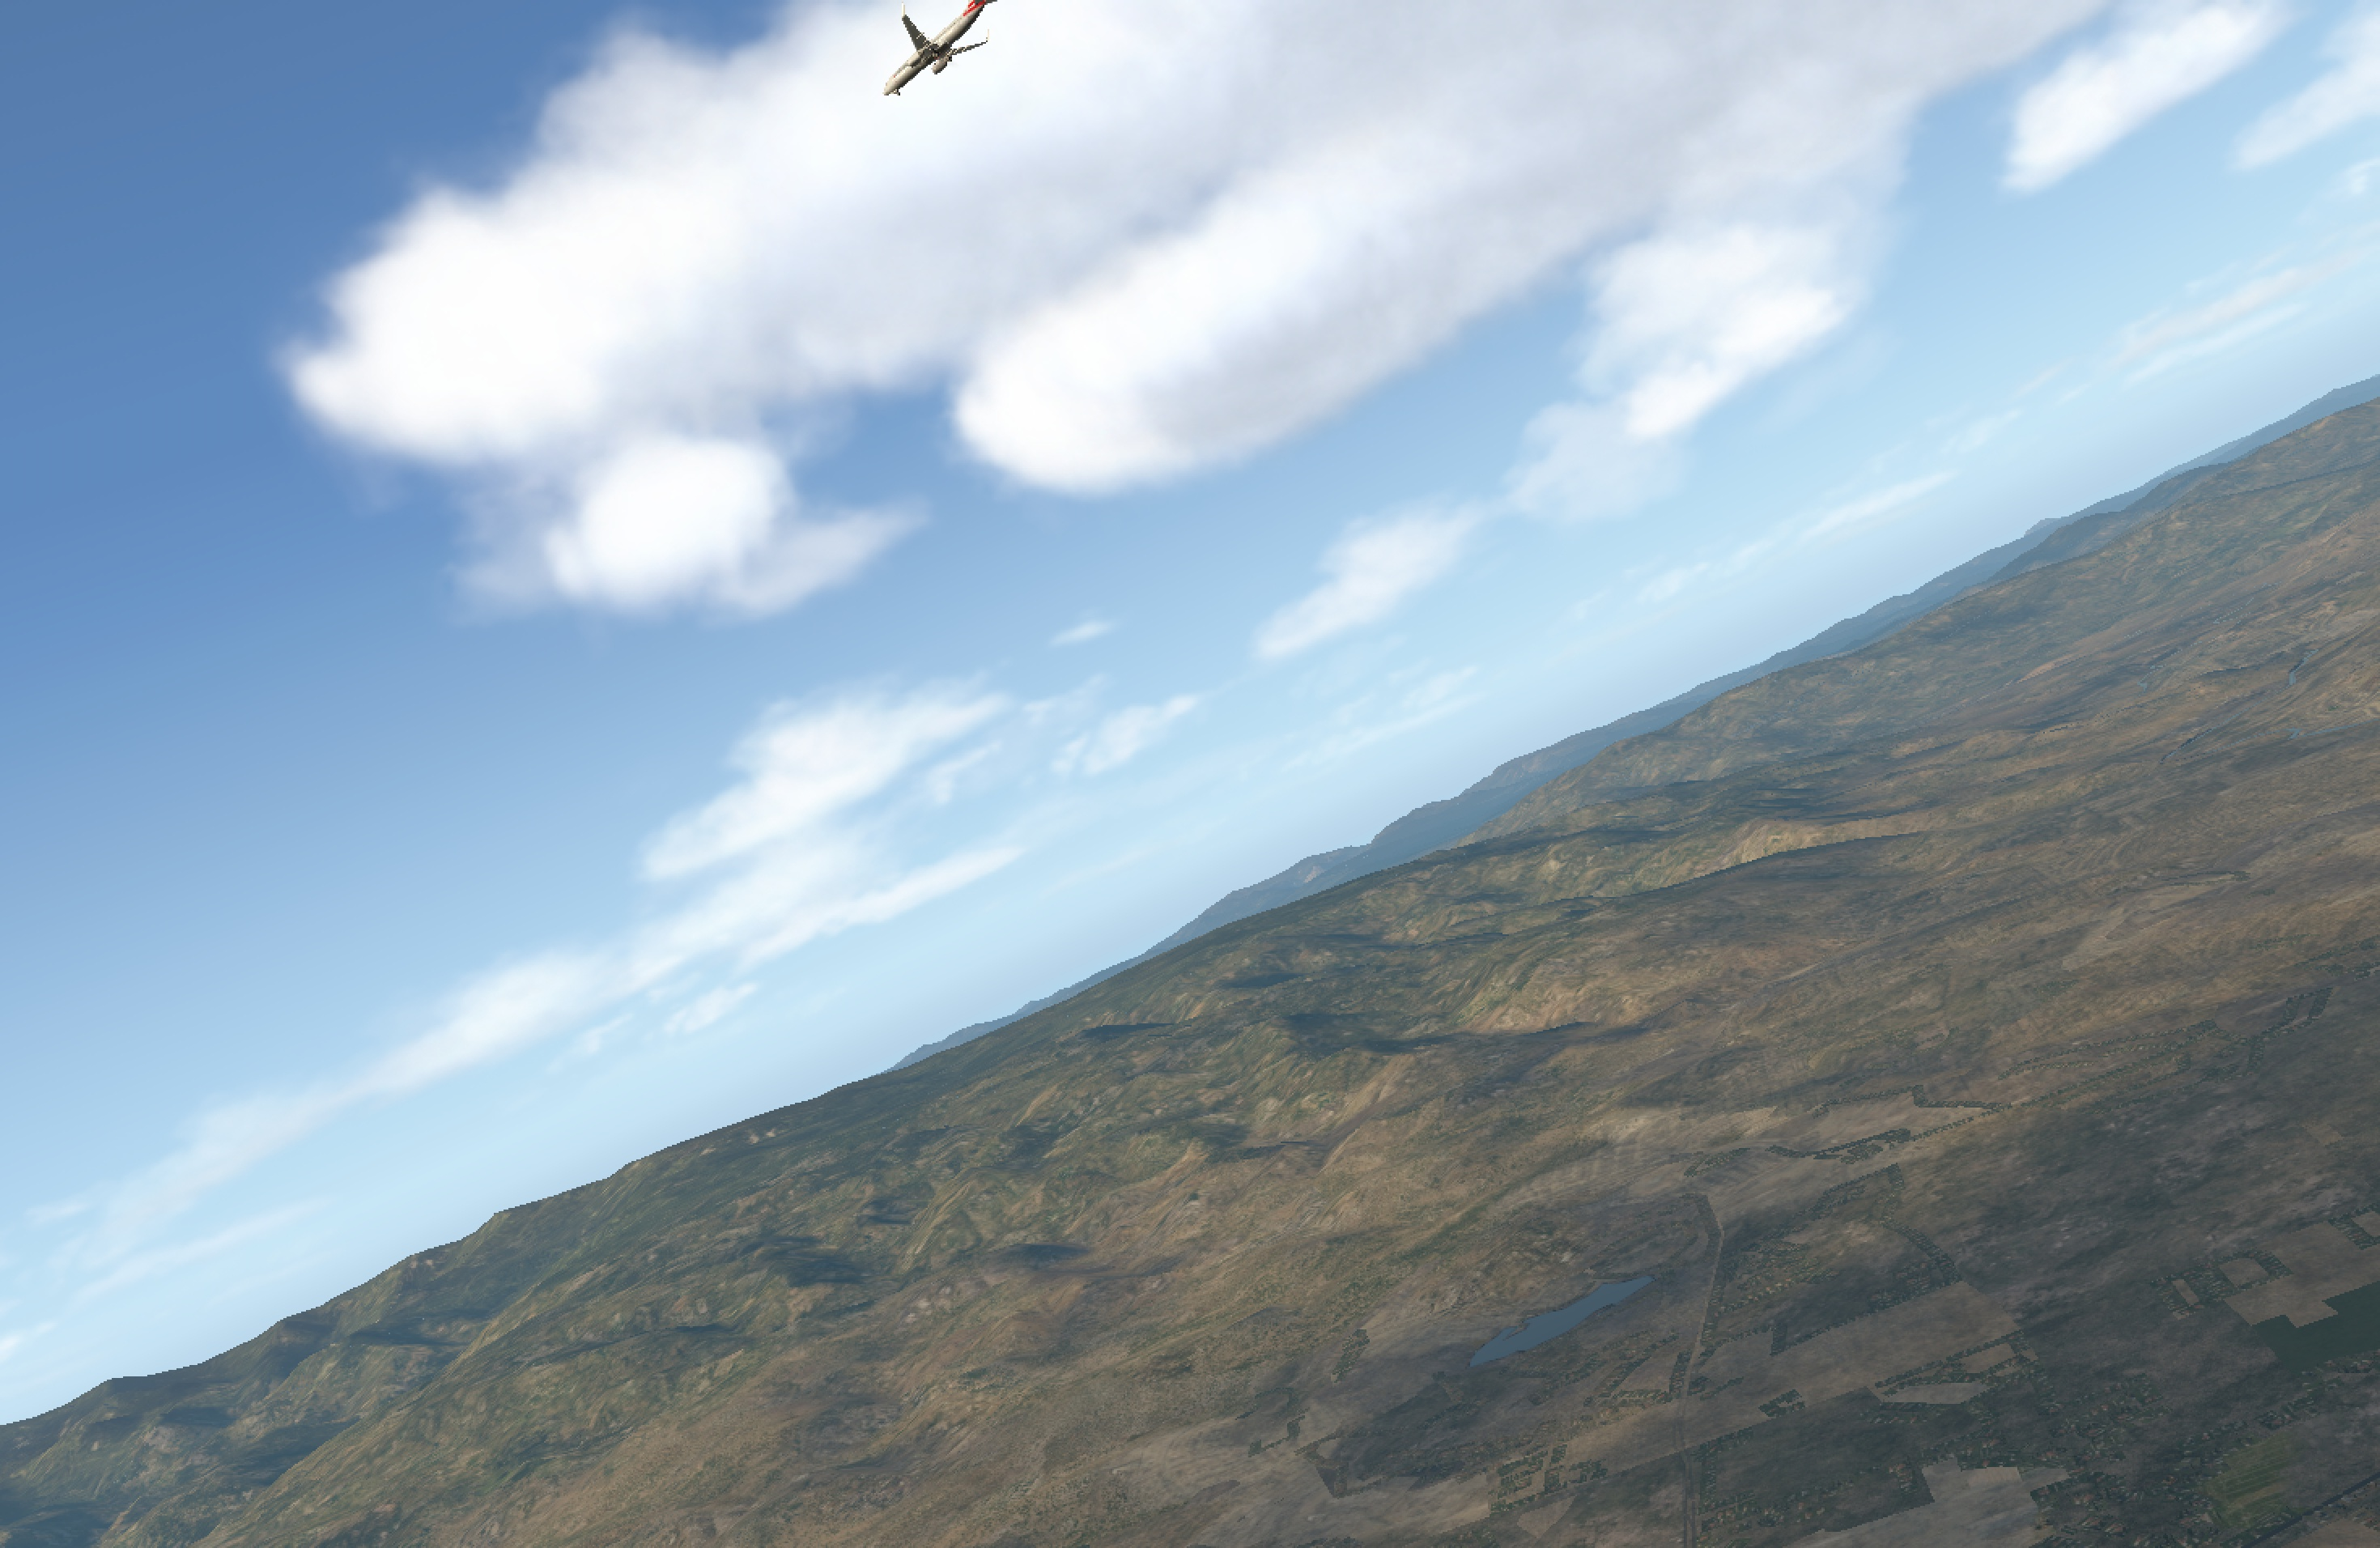aircraft: (860, 24, 1010, 80)
